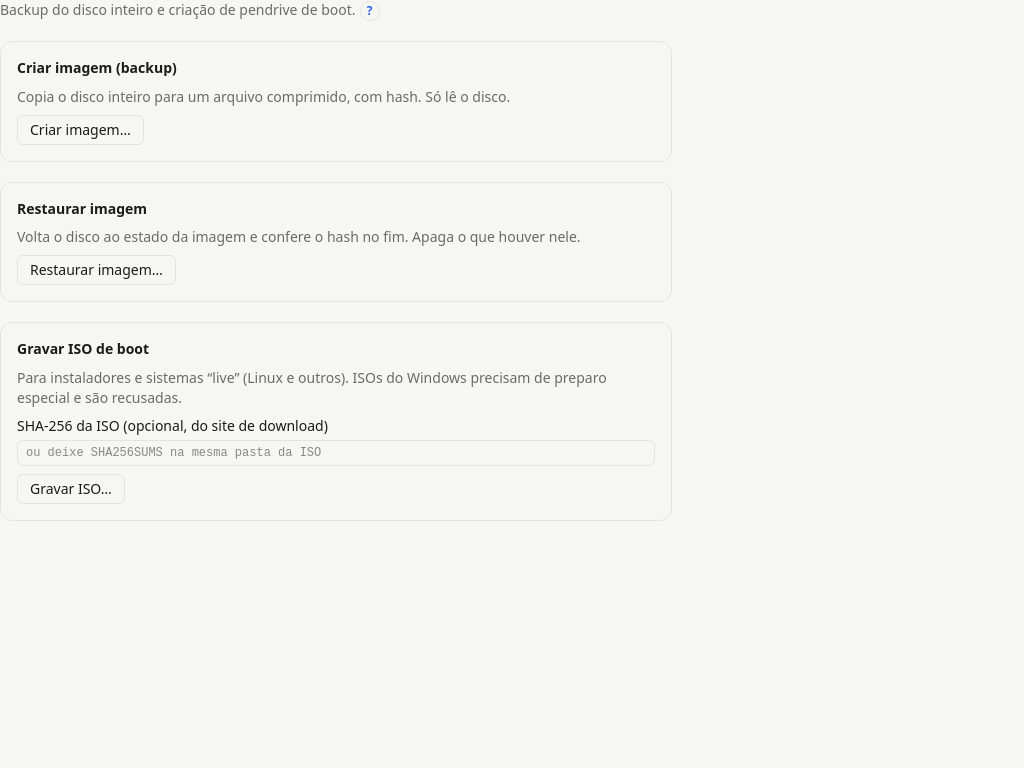
aba Backup e ISO › restaurar mostra de onde é a imagem e pede a série
Click the button "Restaurar imagem…" at (96, 270), box [17,255,176,285]
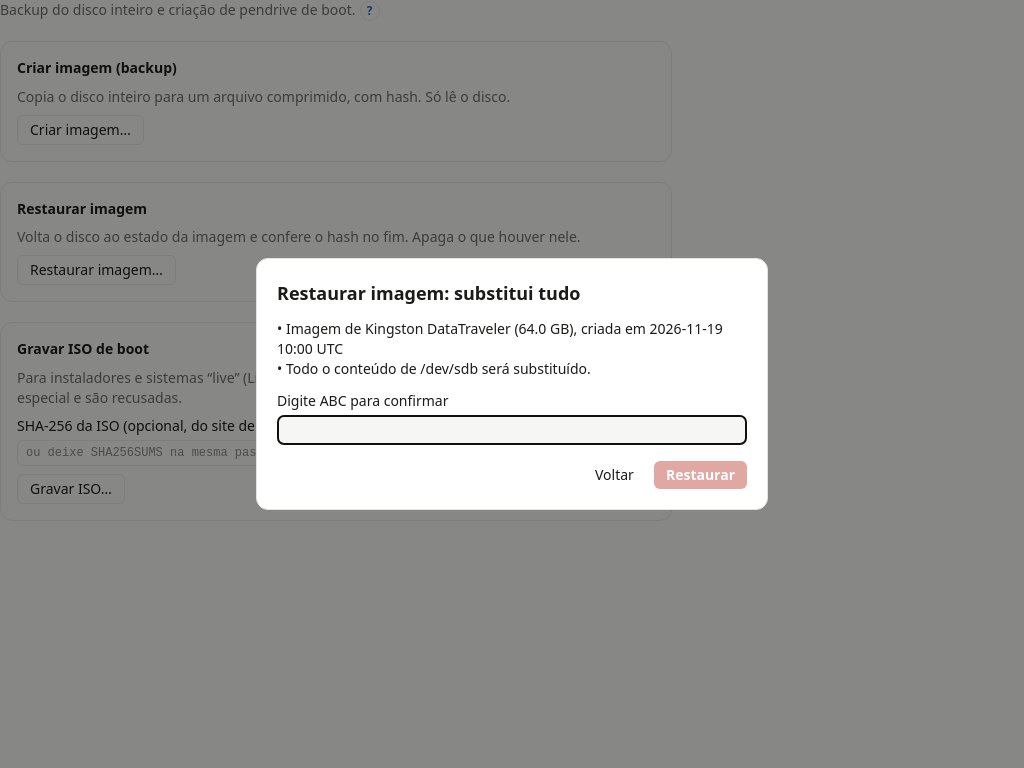
Expected: the dialog is shown
Expected: the list item "Kingston DataTraveler" is shown, [277,319,723,358]
